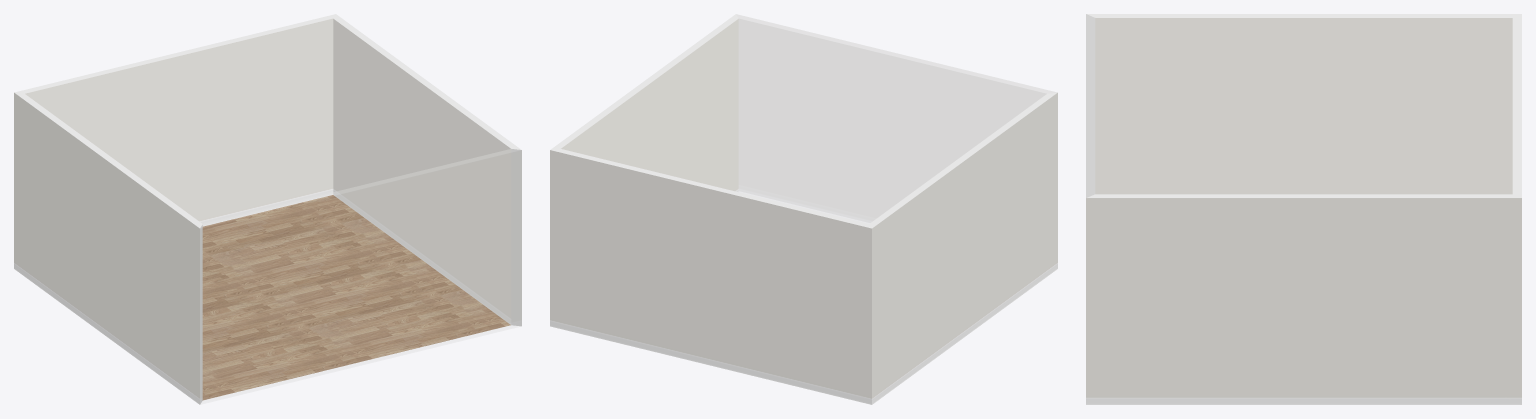
Rendered from design.gltf.
3 views of the same model, side by side, from view 1: azimuth 30°, elevation 25°; view 2: azimuth 150°, elevation 25°; view 3: azimuth 270°, elevation 25° (orthographic). The views are drawn at different scales.
Visible parts, largest first — view 1: wall (×4), object 1, object 19, object 23, object 17, object 5, object 11, object 6; view 2: wall (×5), object 23, object 17, object 5, object 11; view 3: wall (×2), object 6, object 23, object 5, object 17, object 11.
Boxes of the visible parts, bbox=[...] form: wall (×4): bbox=[14, 18, 521, 404]; object 1: bbox=[202, 195, 510, 400]; object 19: bbox=[511, 149, 521, 326]; object 23: bbox=[14, 14, 335, 93]; object 17: bbox=[333, 14, 521, 149]; object 5: bbox=[15, 92, 202, 228]; object 11: bbox=[201, 149, 519, 227]; object 6: bbox=[200, 225, 202, 404]; wall (×5): bbox=[550, 15, 1057, 404]; object 23: bbox=[551, 149, 871, 228]; object 17: bbox=[550, 14, 738, 149]; object 5: bbox=[869, 92, 1056, 228]; object 11: bbox=[736, 14, 1055, 93]; wall (×2): bbox=[1086, 18, 1521, 404]; object 6: bbox=[1086, 14, 1095, 197]; object 23: bbox=[1512, 14, 1521, 197]; object 5: bbox=[1087, 14, 1520, 17]; object 17: bbox=[1087, 194, 1520, 197]; object 11: bbox=[1086, 14, 1094, 197].
Size of the model in its own units: 477 by 250 by 477.
Materials: 26 (9 with a texture image).
